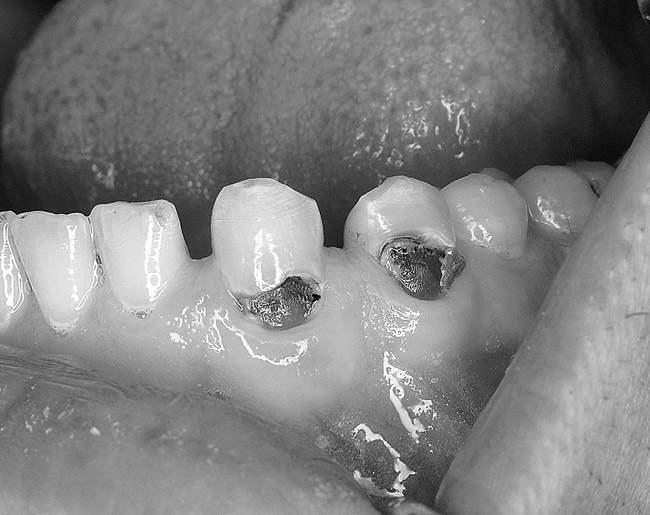karies: (385, 243, 464, 298), (246, 276, 321, 329), (133, 198, 185, 229), (585, 176, 608, 203)
